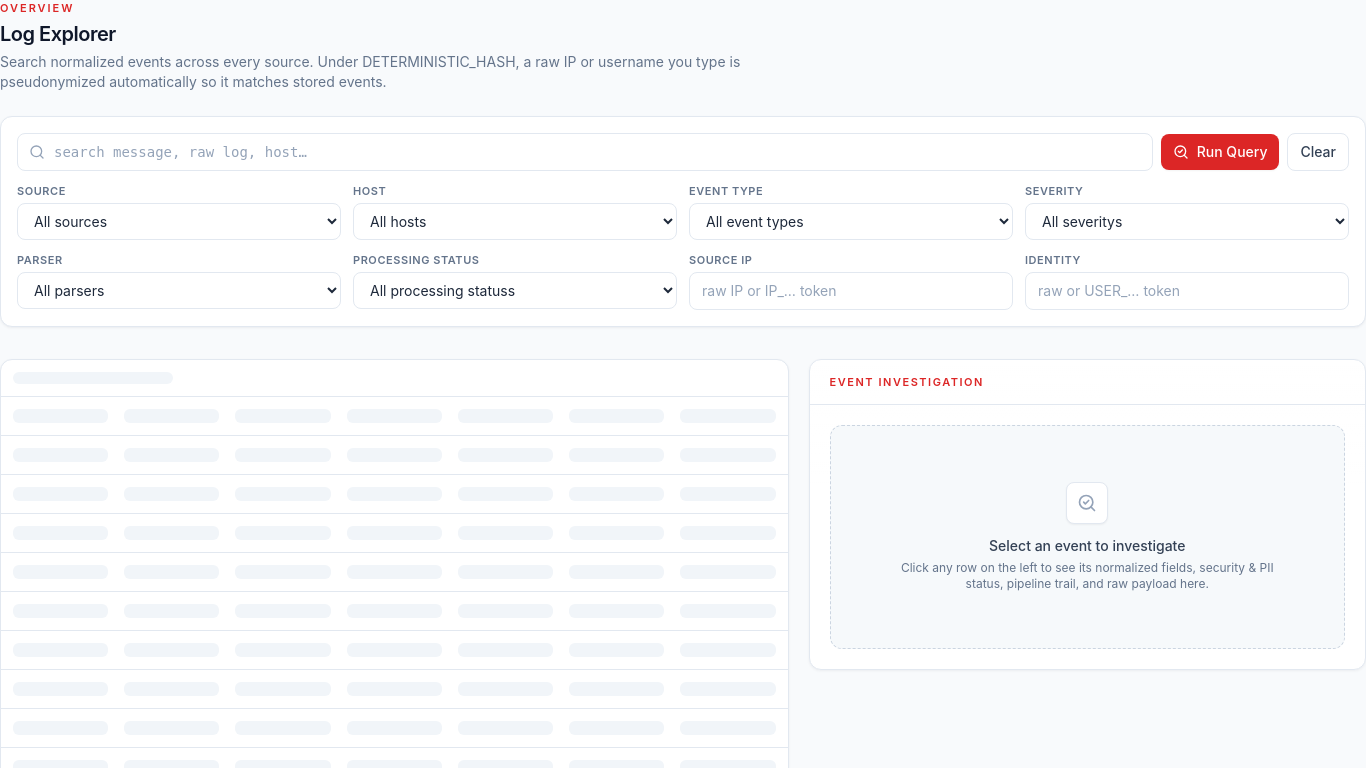
Test: LogExplorerPage › shows active filter chips and clears them
The width and height of the screenshot is (1366, 768).
Type "admin" into the field with placeholder "search message, raw log, host…". click: x=585, y=152
box: left=17, top=133, right=1153, bottom=171
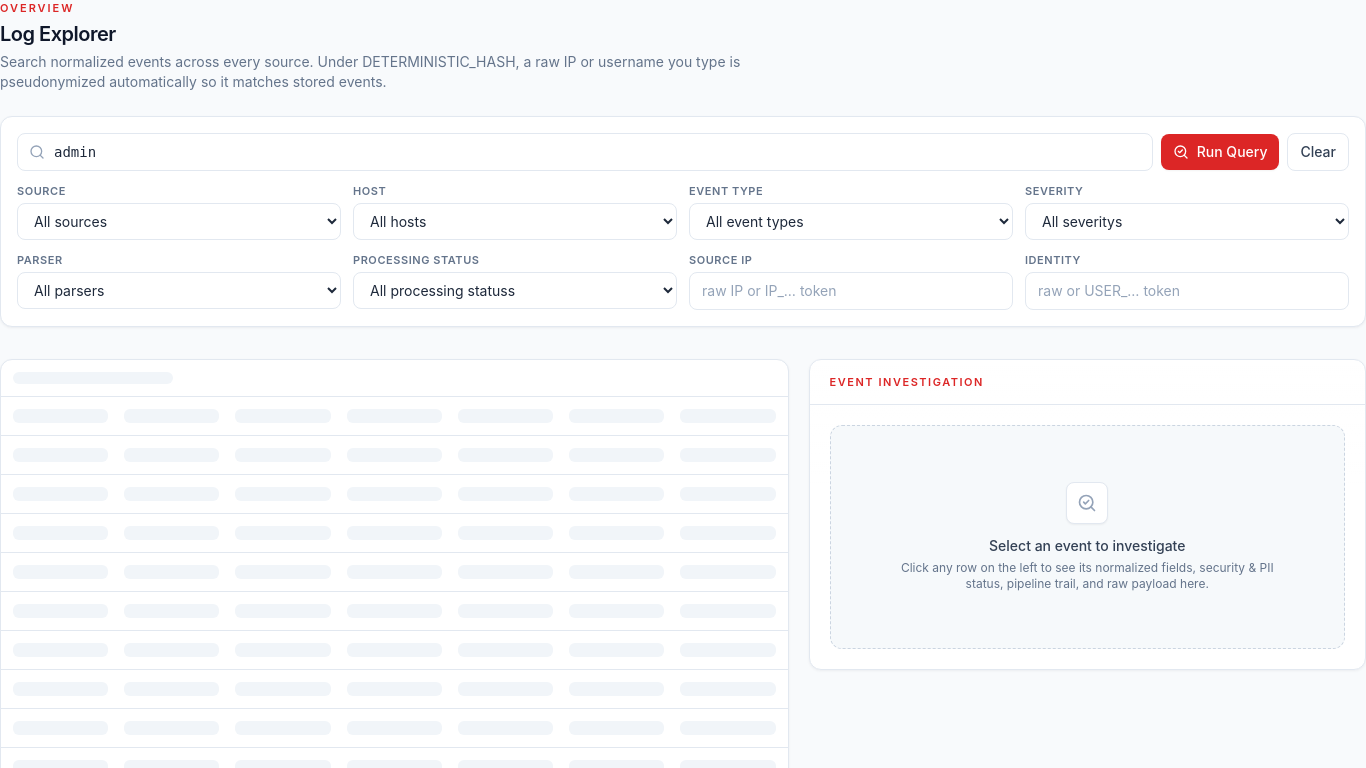
Click the button "Run Query". click: x=1220, y=152
box: left=1161, top=134, right=1280, bottom=170
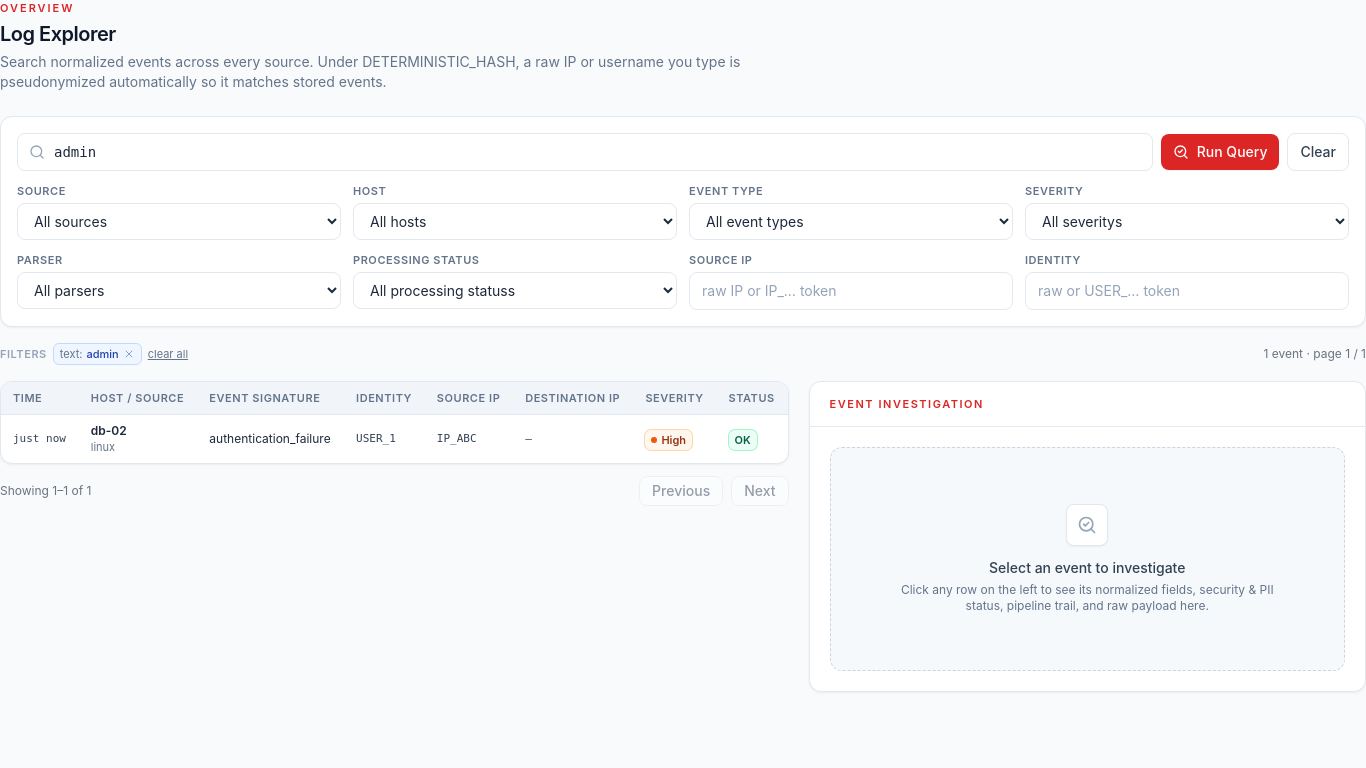
Now the button "clear all" is shown, box left=148, top=346, right=188, bottom=362
